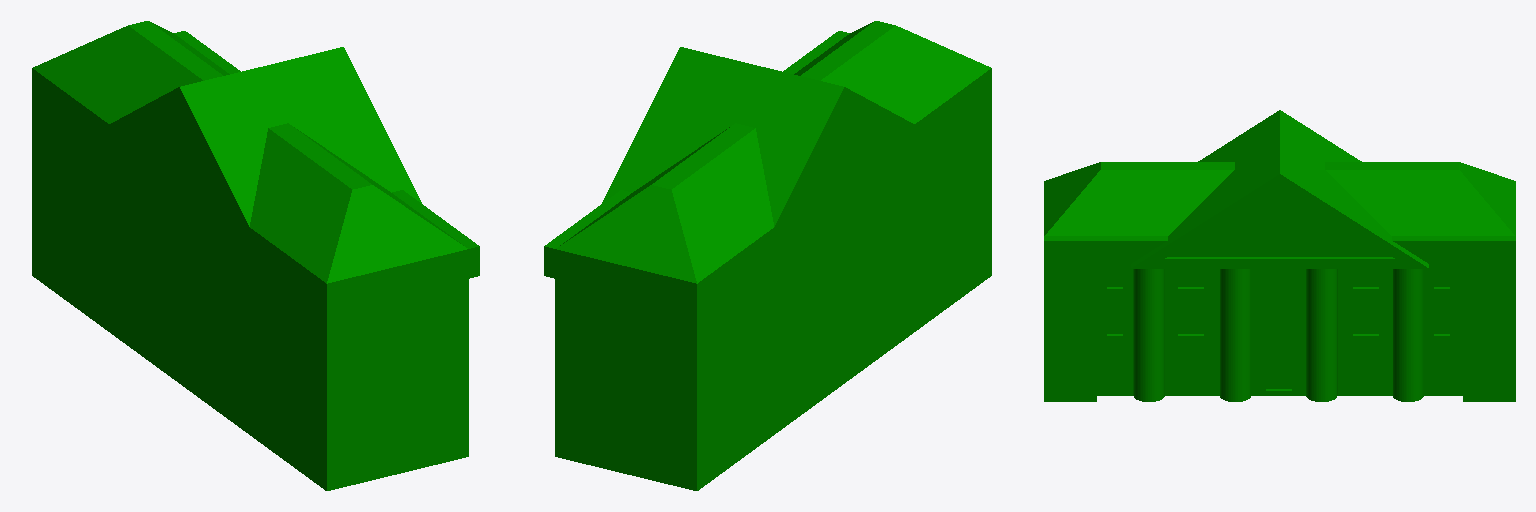
URDF robot description (cube.urdf):
<?xml version="1.0" ?>
<robot name="cube.urdf">
    <link name="legobrick">
        <contact>
            <lateral_friction value="1.0"/>
            <rolling_friction value="0.0"/>
            <contact_cfm value="0.0"/>
            <contact_erp value="1.0"/>
        </contact>
        <inertial>
            <origin rpy="0 0 0" xyz="0.0 0.0 0.0"/>
            <mass value="0.1"/>
            <inertia ixx="1" ixy="0" ixz="0" iyy="1" iyz="0" izz="1"/>
        </inertial>
        <visual>
            <origin rpy="1.570796 0 0" xyz="-0.001152925257731959 0.014222730670103094 -0.006989078608247398"/>
            <geometry>
                <mesh filename="Museum.obj" scale="0.001 0.001 0.001"/>
            </geometry>
            <material name="yellow">
                <color rgba="0.0314 0.6078 0 1"/>
            </material>
        </visual>
        <collision>
            <origin rpy="1.570796 0 0" xyz="-0.001152925257731959 0.014222730670103094 -0.006989078608247398"/>
            <geometry>
                <mesh filename="Museum.obj" scale="0.001 0.001 0.001"/>
            </geometry>
        </collision>
    </link>
</robot>

--- What the picture shows (computed from the rendered views, not written in the file) ---
Views: 3 orthographic renders of the robot side by side, from view 1: azimuth 30°, elevation 25°; view 2: azimuth 150°, elevation 25°; view 3: azimuth 270°, elevation 25°.
Model cube.urdf with 1 links and 0 joints (none), rooted at legobrick, posed all joints at 0.
Visible links, largest first — view 1: legobrick; view 2: legobrick; view 3: legobrick.
Link boxes in pixels (left/top/right/bottom): legobrick: left=32, top=21, right=479, bottom=490; legobrick: left=544, top=21, right=991, bottom=490; legobrick: left=1044, top=110, right=1515, bottom=401.
Size in the robot's own frame: 0.029 by 0.09 by 0.05 metres.
Meshes: 1 distinct files referenced, 1 mesh visuals loaded (1 OBJ).